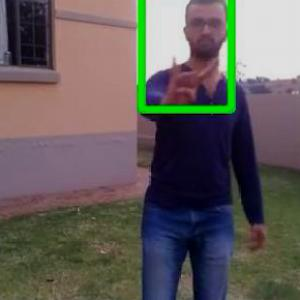takeoff-hand: (160, 42, 222, 116)
